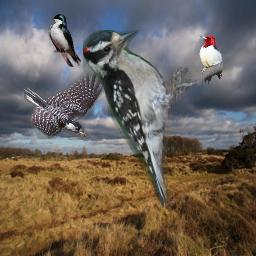Swallow: (48, 13, 81, 67)
Woodpecker: (83, 30, 197, 208), (24, 70, 108, 141), (198, 35, 224, 86)
